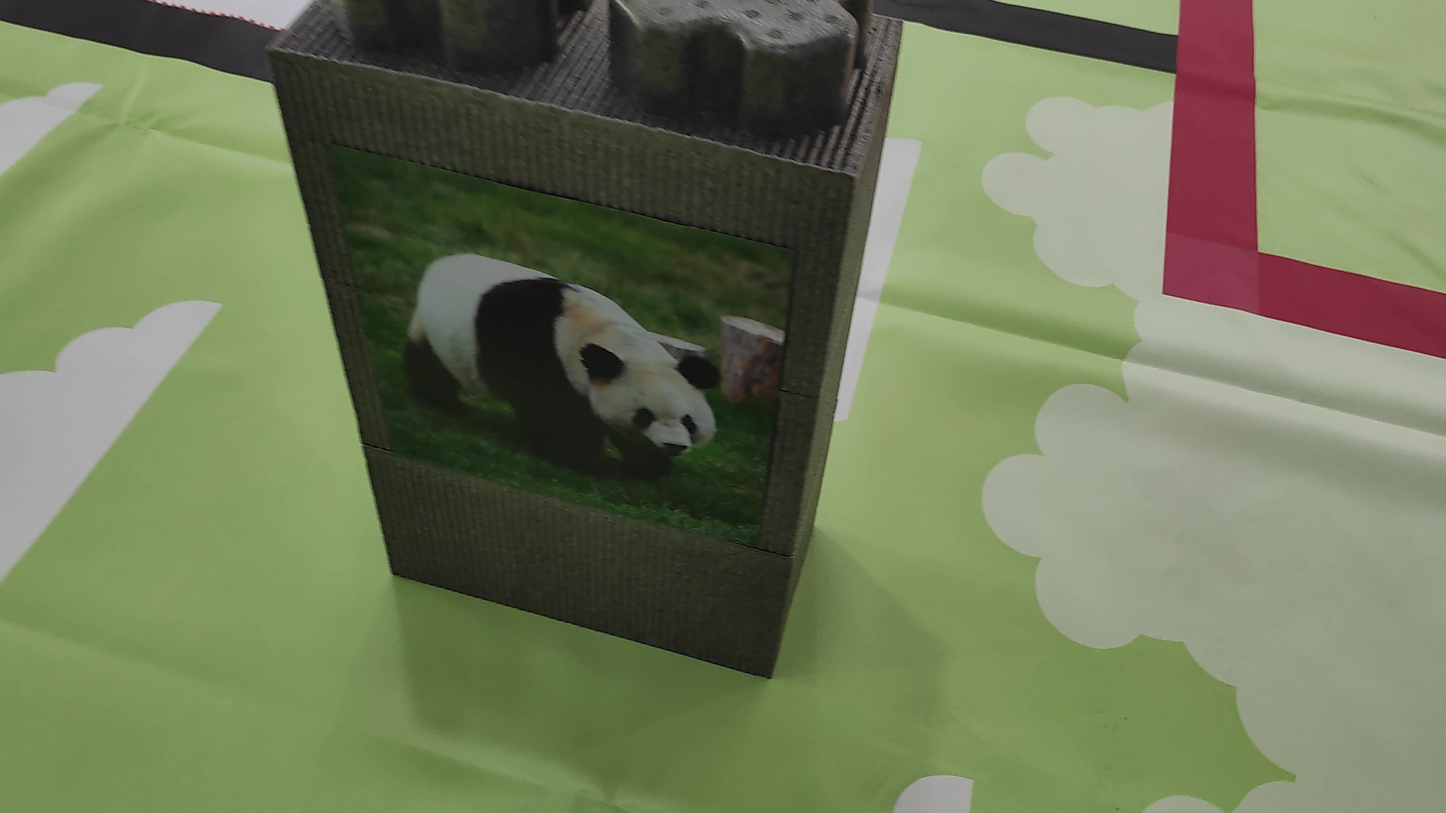panda: (374, 236, 731, 528)
